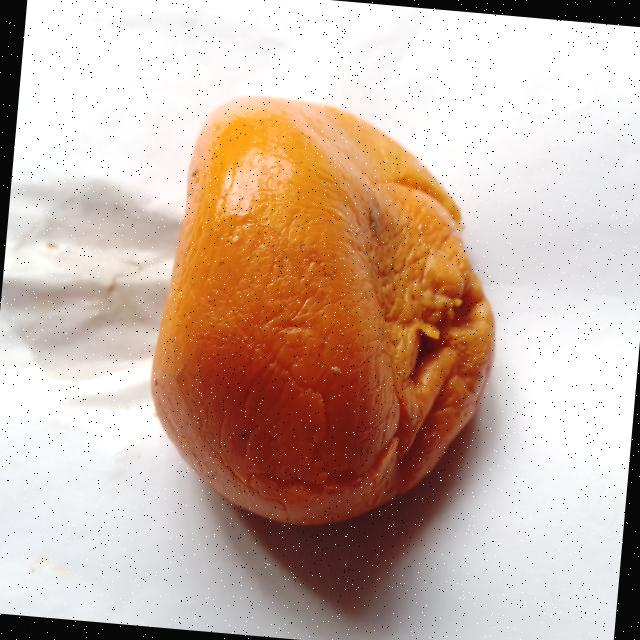Rotten: (138, 84, 518, 542)
